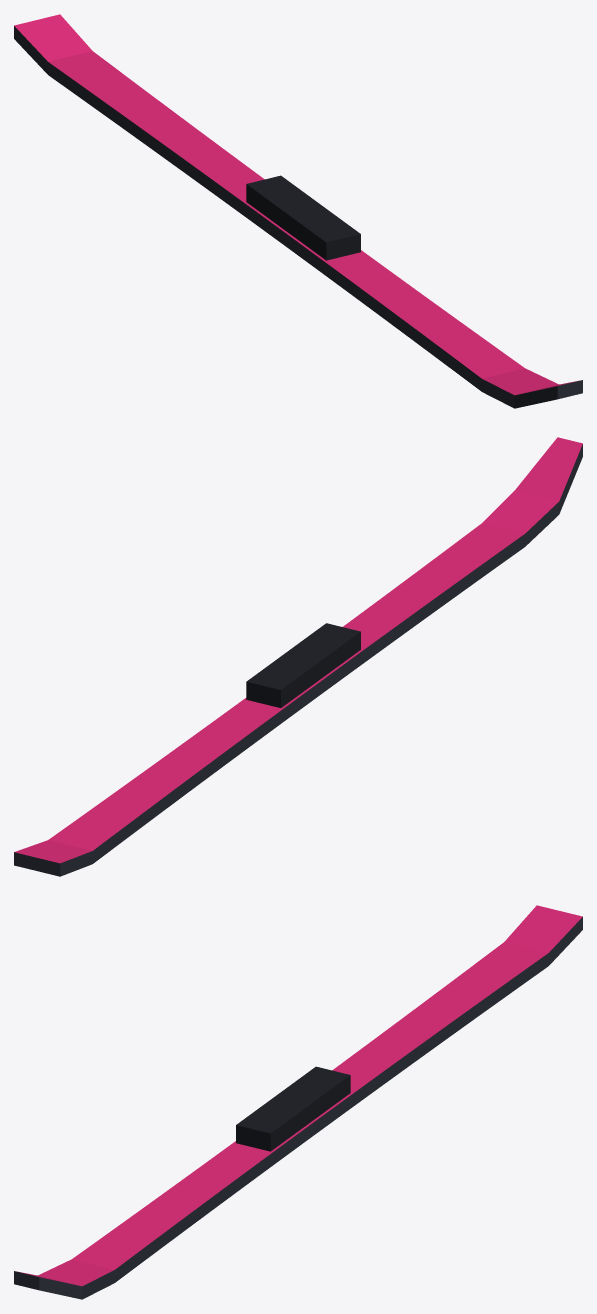
File: SKI_EQ_Ski-BpvH0YWN.glb
3 renders of one model, top to bottom at view 1: azimuth 30°, elevation 25°; view 2: azimuth 150°, elevation 25°; view 3: azimuth 330°, elevation 25°, orthographic.
Parts seen in each view (by area): view 1: SKI_EQ_Ski; view 2: SKI_EQ_Ski; view 3: SKI_EQ_Ski.
Part boxes in pixels (box(x1,y1,x2,y2)): SKI_EQ_Ski: box(14, 14, 582, 408); SKI_EQ_Ski: box(14, 437, 582, 876); SKI_EQ_Ski: box(14, 905, 582, 1299).
Size of the model in its own units: 0.08 by 0.087 by 1.6.
Materials: 1 (1 with a texture image).
